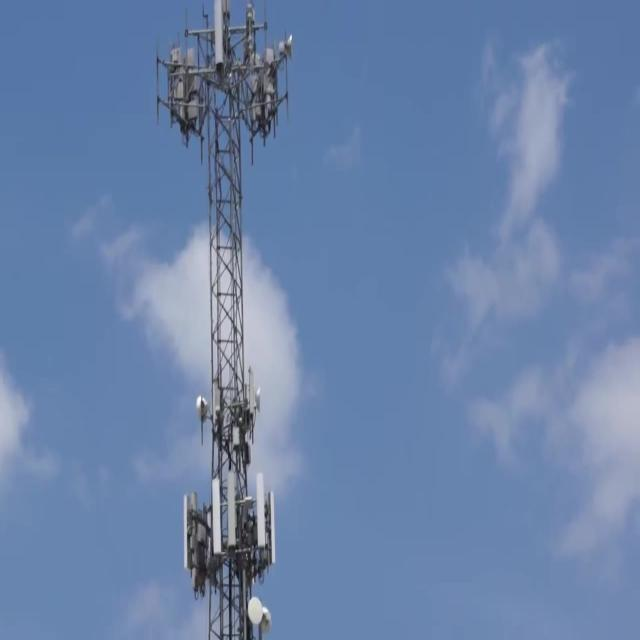GSM Antenna: (225, 470, 238, 551), (256, 467, 267, 550), (212, 477, 224, 552), (213, 5, 225, 70), (269, 493, 278, 575), (183, 492, 190, 571), (248, 366, 256, 419)
Microwave Antenna: (192, 388, 212, 423), (248, 593, 262, 633), (279, 30, 297, 59), (254, 389, 266, 416), (263, 605, 274, 633)
